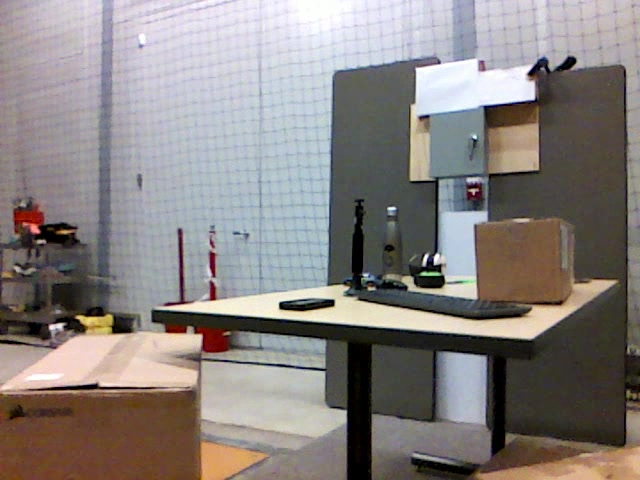box: (1, 333, 203, 480), (475, 219, 574, 304)
